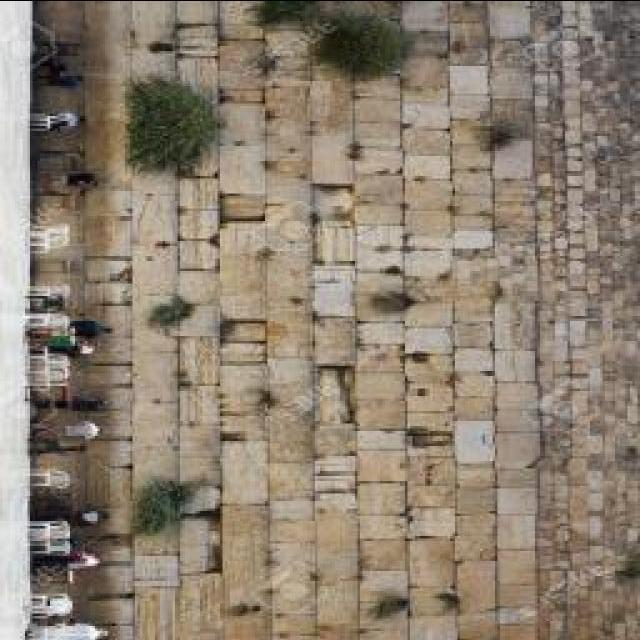Crack: (27, 1, 638, 638)
